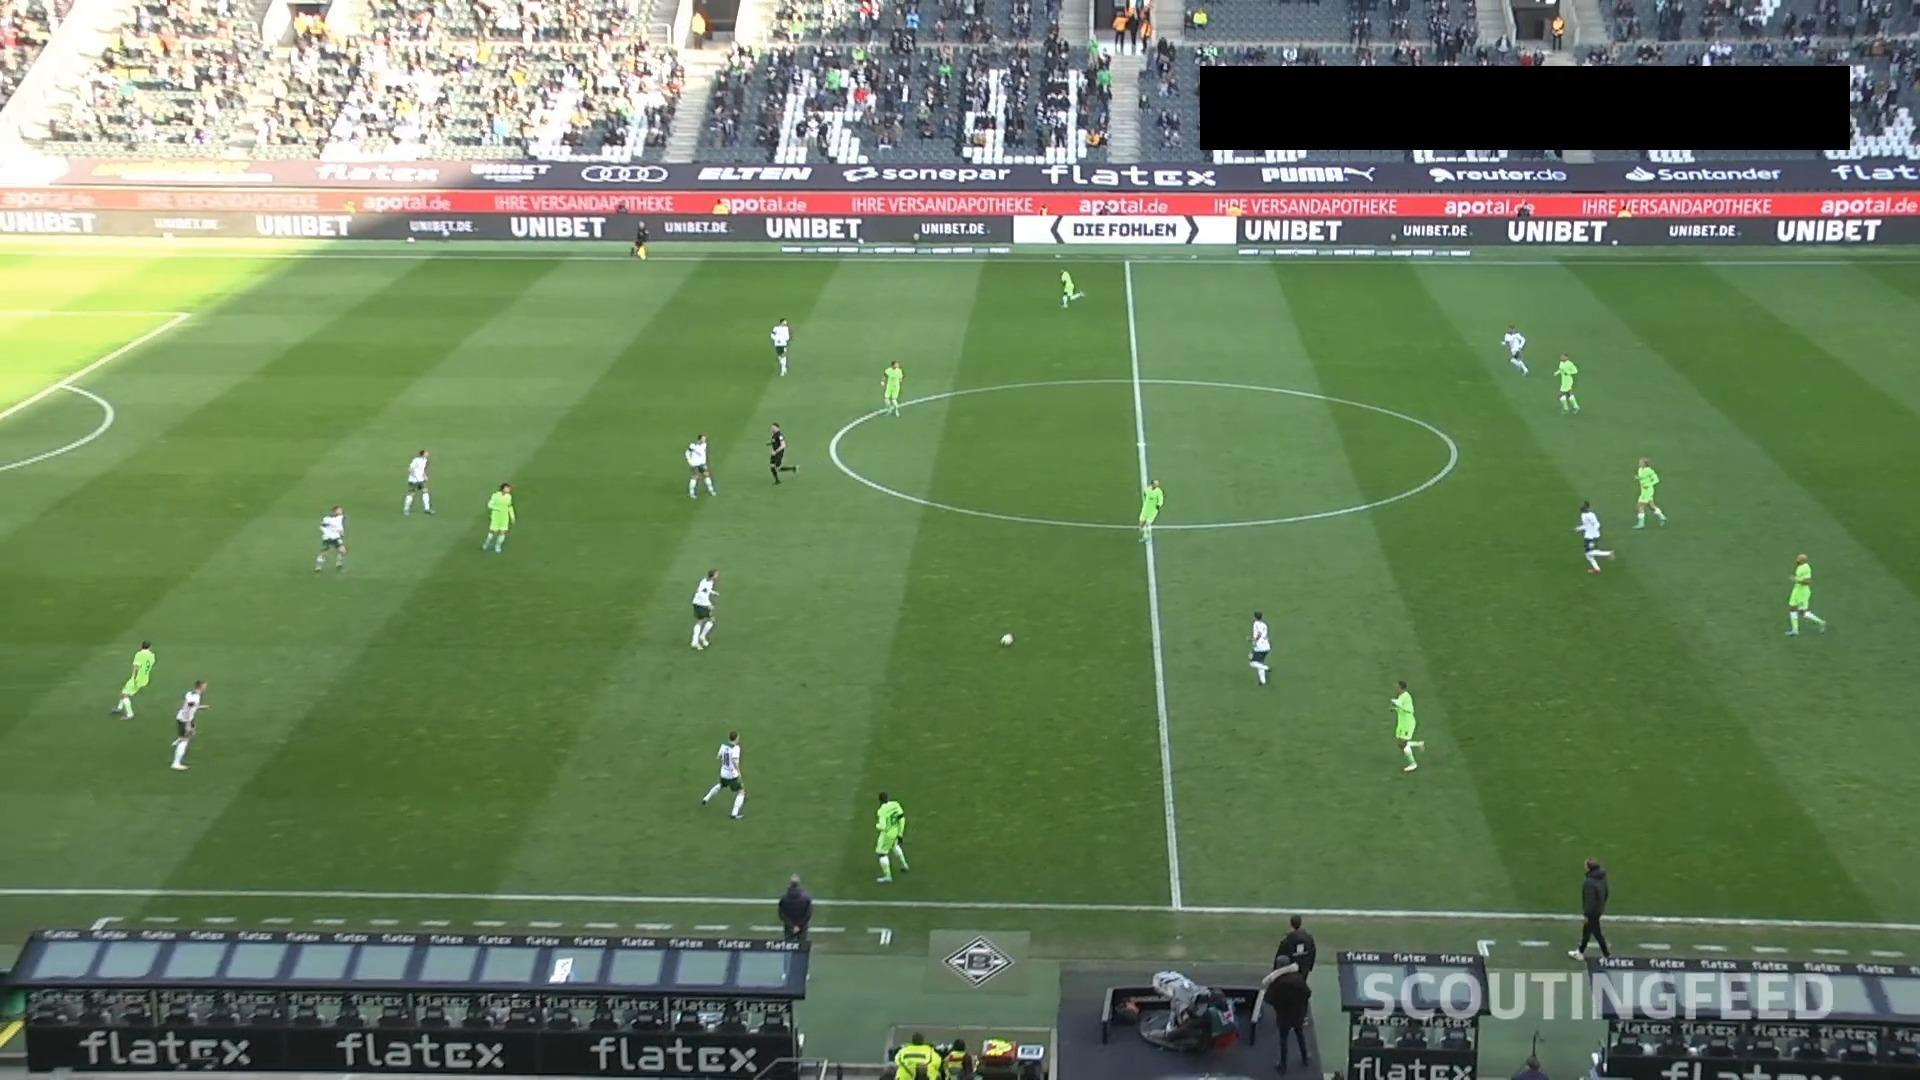ball: (1000, 632, 1015, 647)
